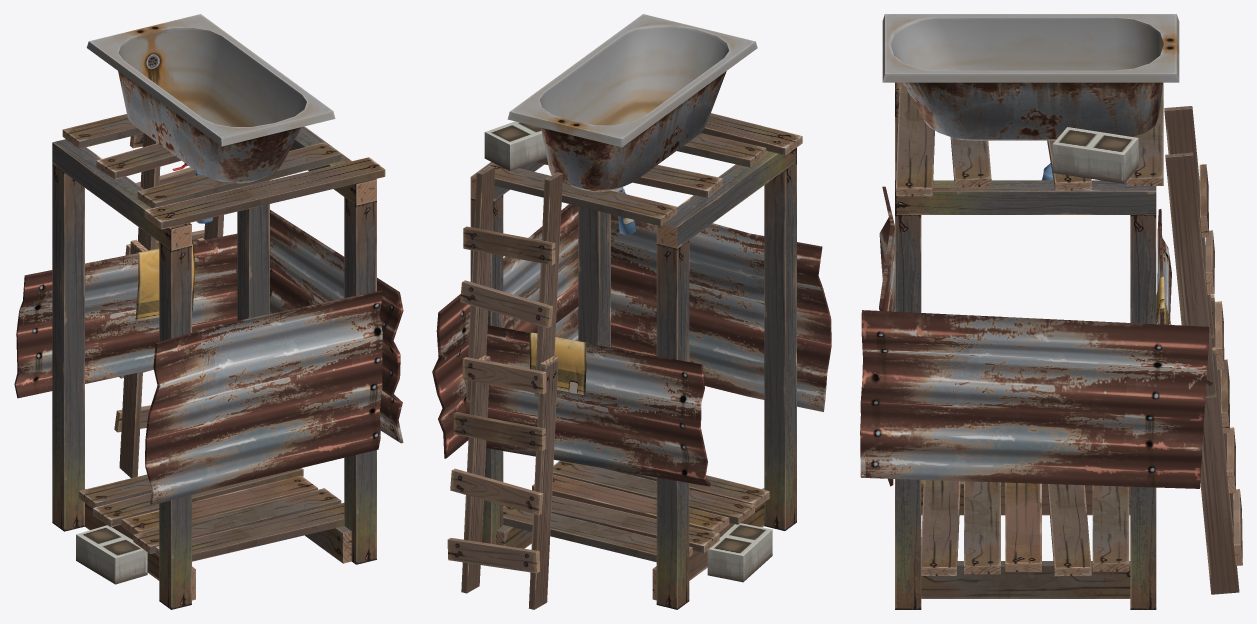
Rendered from shower01.fbx.
3 views of the same model, side by side, from view 1: azimuth 30°, elevation 25°; view 2: azimuth 150°, elevation 25°; view 3: azimuth 270°, elevation 25° (orthographic). The views are drawn at different scales.
Visible parts, largest first — view 1: shower01; view 2: shower01; view 3: shower01.
Boxes of the visible parts, <box> form: shower01: <box>14,14,403,609</box>; shower01: <box>432,14,831,609</box>; shower01: <box>860,14,1242,609</box>.
Size of the model in its own units: 186 by 323 by 220.
